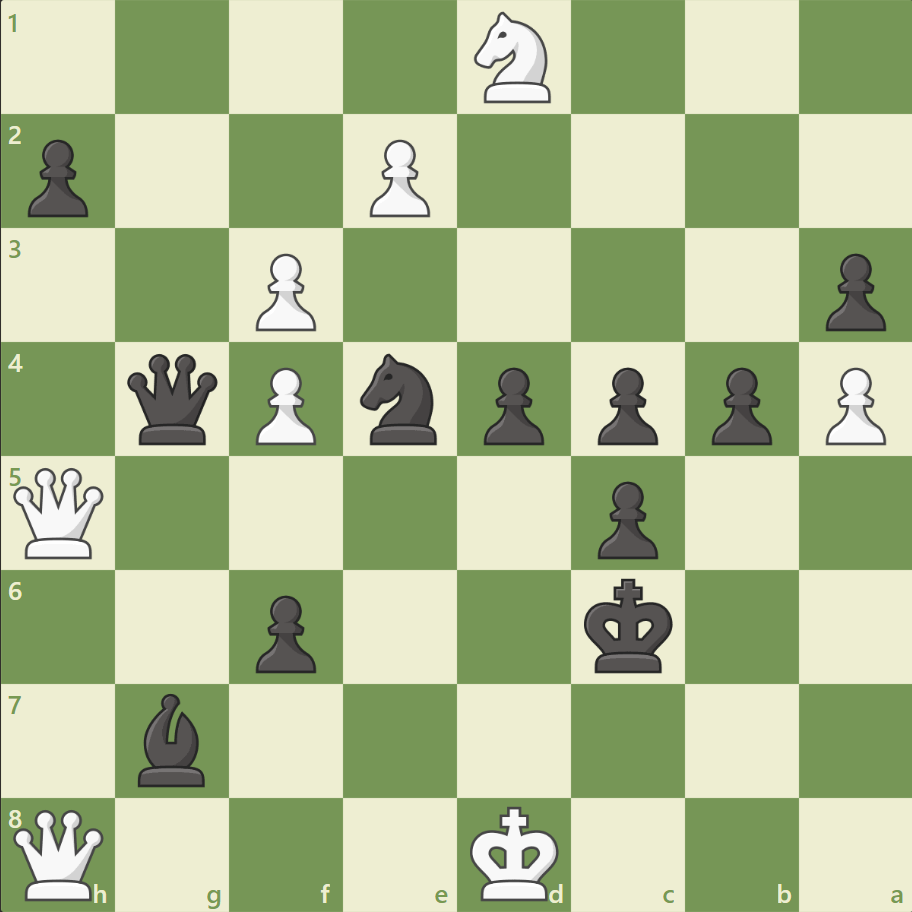K: (465, 798, 565, 906)
N: (465, 7, 562, 110)
P: (247, 359, 322, 450), (247, 246, 322, 337), (815, 359, 889, 450), (361, 132, 435, 223)
Q: (10, 804, 109, 903), (10, 463, 109, 562)
b: (131, 687, 215, 790)
k: (579, 571, 679, 679)
n: (351, 348, 449, 450)
p: (247, 586, 322, 677), (701, 359, 776, 450), (474, 359, 549, 450), (20, 132, 95, 223), (588, 473, 662, 564), (588, 359, 662, 450), (815, 246, 889, 337)
q: (124, 349, 223, 449)
